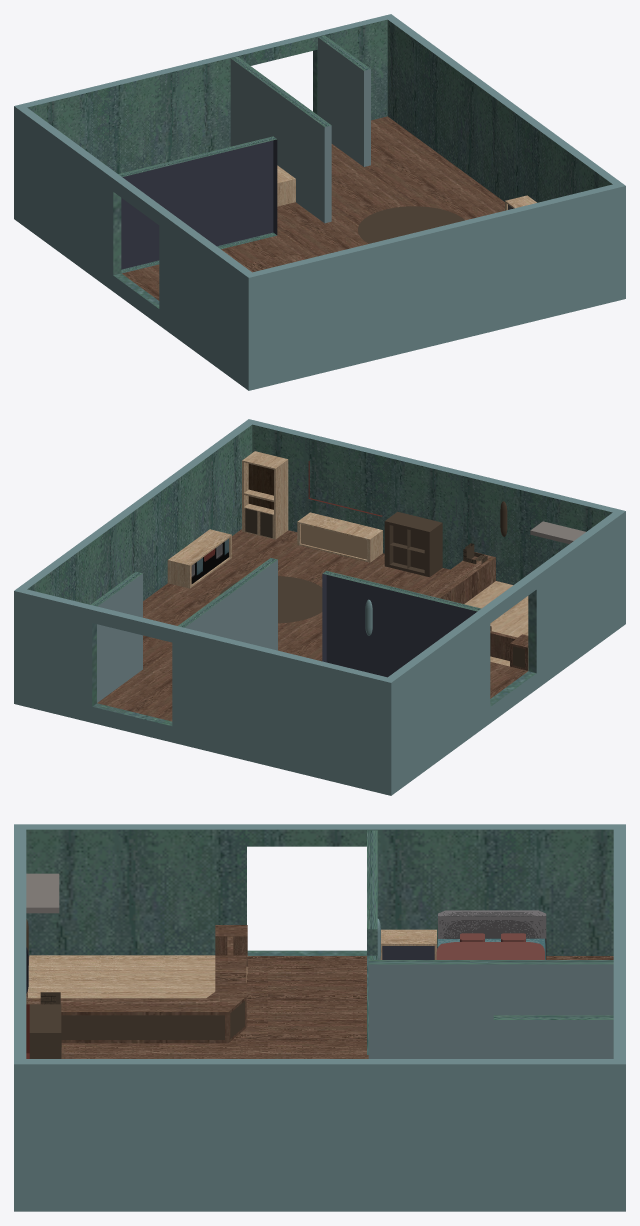
Rendered from 1 Floor.fbx.
3 views of the same model, one above another, from view 1: azimuth 30°, elevation 25°; view 2: azimuth 150°, elevation 25°; view 3: azimuth 270°, elevation 25° (orthographic). The views are drawn at different scales.
Visible parts, largest first — view 1: Cube.098; view 2: Cube.098; view 3: Cube.098.
Boxes of the visible parts, box(x1,y1,x2,y2) form: Cube.098: box(14, 14, 625, 390); Cube.098: box(14, 419, 625, 795); Cube.098: box(14, 824, 625, 1211).
Bounding box in the file's own units: 404 × 116 × 436.
45 materials, 18 textured.
